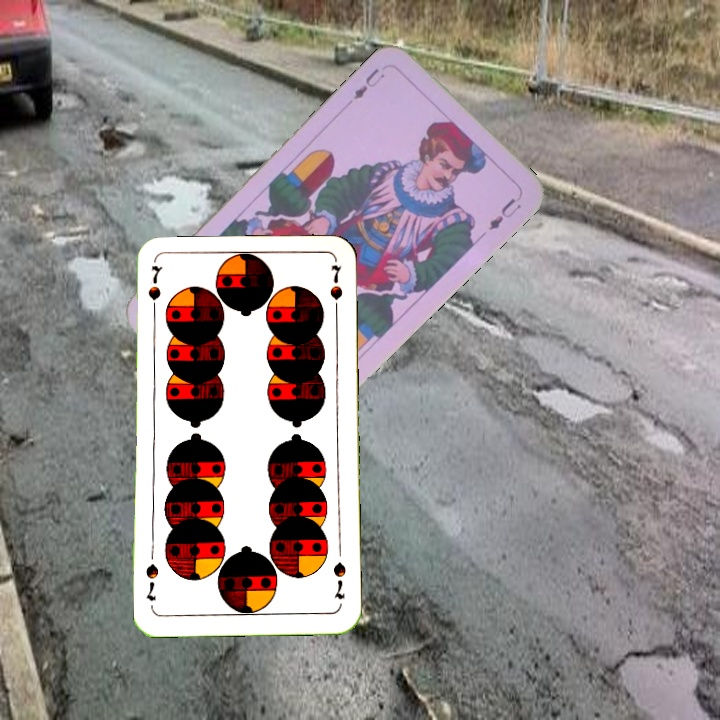EU: (349, 63, 387, 103)
S7: (144, 262, 162, 321), (329, 558, 349, 602)
